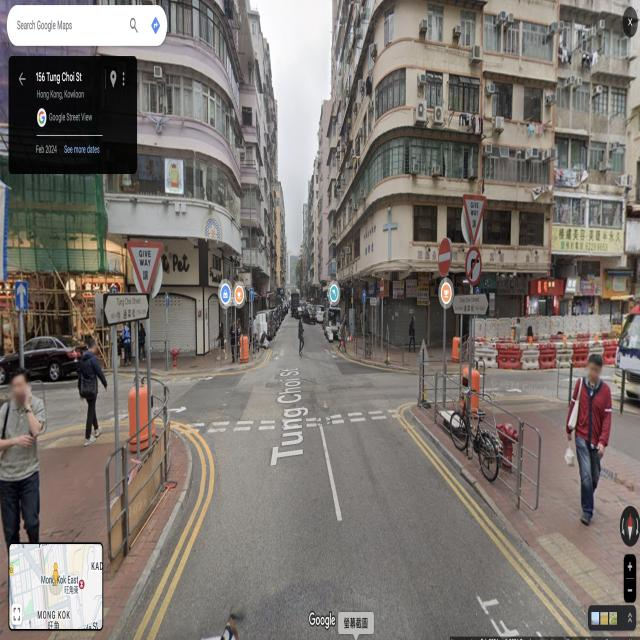Direction-Sign: (16, 280, 27, 310), (250, 288, 254, 300), (363, 291, 366, 303), (166, 294, 169, 306)
Order-Sign: (465, 247, 482, 284), (438, 238, 451, 276), (380, 279, 384, 299)
Street-Direction-Sign: (103, 293, 150, 327), (452, 294, 490, 316), (369, 297, 377, 306)
Warning-Sign: (127, 241, 163, 298), (463, 195, 486, 245)
